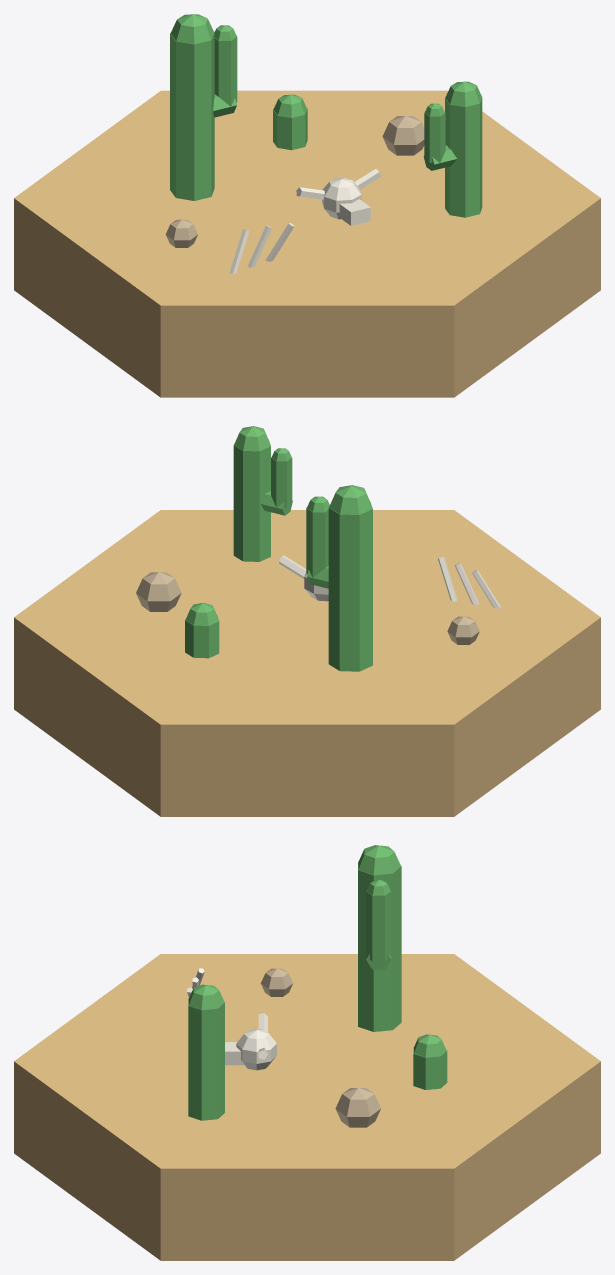
Rendered from desert-cactus.glb.
The picture shows the model from 3 angles, top to bottom: view 1: azimuth 30°, elevation 25°; view 2: azimuth 150°, elevation 25°; view 3: azimuth 270°, elevation 25°; orthographic projection.
Visible parts, largest first — view 1: base, cactus_a_body, cactus_b_body, cactus_a_arm_v, rock_1, cactus_small, skull, cactus_a_top, cactus_b_arm_v, cactus_b_top, rock_2, skull_snout (+1 smaller); view 2: base, cactus_a_body, cactus_b_body, rock_1, cactus_a_arm_v, cactus_small, cactus_b_arm_v, cactus_a_top, rock_2, cactus_b_top, cactus_small_top; view 3: base, cactus_a_body, cactus_b_body, cactus_a_arm_v, rock_1, skull, cactus_small, cactus_a_top, cactus_b_top, rock_2, cactus_small_top.
Part boxes in pixels (box(x1,y1,x2,y2)): base: box(14, 90, 600, 397); cactus_a_body: box(170, 32, 214, 200); cactus_b_body: box(445, 97, 482, 217); cactus_a_arm_v: box(214, 36, 237, 106); rock_1: box(382, 116, 424, 155); cactus_small: box(273, 108, 307, 150); skull: box(322, 177, 361, 219); cactus_a_top: box(170, 14, 213, 44); cactus_b_arm_v: box(424, 112, 445, 162); cactus_b_top: box(445, 81, 481, 106); rock_2: box(165, 219, 197, 247); skull_snout: box(338, 199, 370, 225); base: box(14, 510, 600, 816); cactus_a_body: box(328, 501, 372, 671); cactus_b_body: box(233, 439, 270, 561); rock_1: box(136, 572, 181, 611); cactus_a_arm_v: box(306, 507, 328, 577); cactus_small: box(185, 615, 219, 658); cactus_b_arm_v: box(271, 457, 292, 507); cactus_a_top: box(329, 485, 372, 514); rock_2: box(447, 616, 479, 644); cactus_b_top: box(234, 426, 270, 451); cactus_small_top: box(185, 603, 218, 625); base: box(14, 954, 600, 1260); cactus_a_body: box(358, 861, 401, 1031); cactus_b_body: box(188, 999, 224, 1120); cactus_a_arm_v: box(366, 891, 391, 961); rock_1: box(335, 1088, 380, 1127); skull: box(236, 1028, 276, 1070); cactus_small: box(413, 1047, 447, 1089); cactus_a_top: box(358, 845, 400, 875); cactus_b_top: box(188, 984, 224, 1009); rock_2: box(260, 968, 293, 996); cactus_small_top: box(414, 1034, 446, 1057).
Bounding box in the file's own units: 1 × 0.5841 × 1.15.
